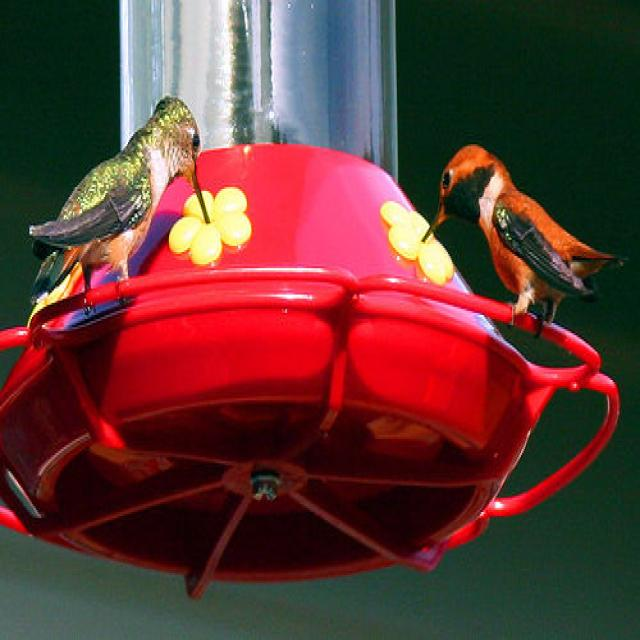bird: (422, 141, 619, 328), (29, 95, 210, 290)
